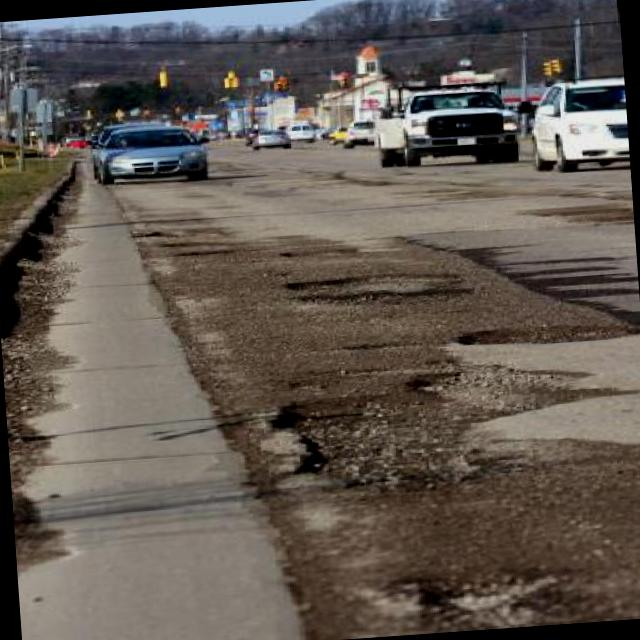Lubang: (269, 369, 474, 484), (389, 569, 558, 631), (406, 364, 588, 415), (291, 279, 473, 302), (455, 324, 629, 345), (285, 272, 443, 289), (277, 244, 358, 257)
